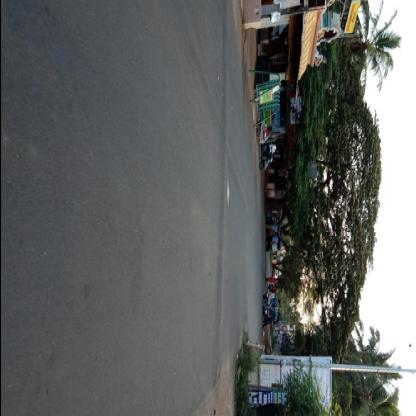speed-bumps: (208, 1, 236, 398)
